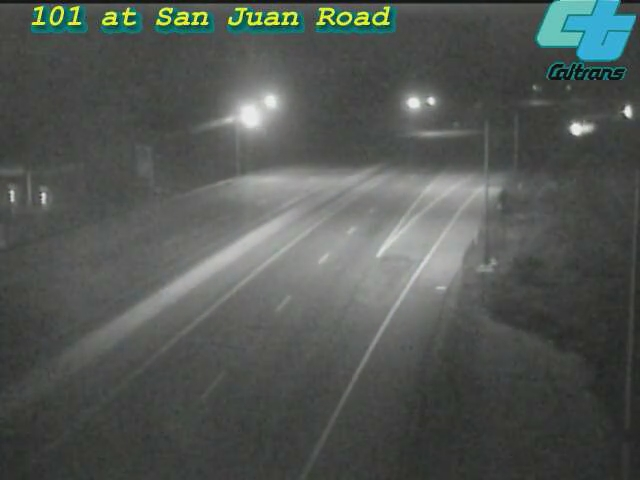vehicle: (553, 105, 603, 155), (603, 88, 640, 138)
